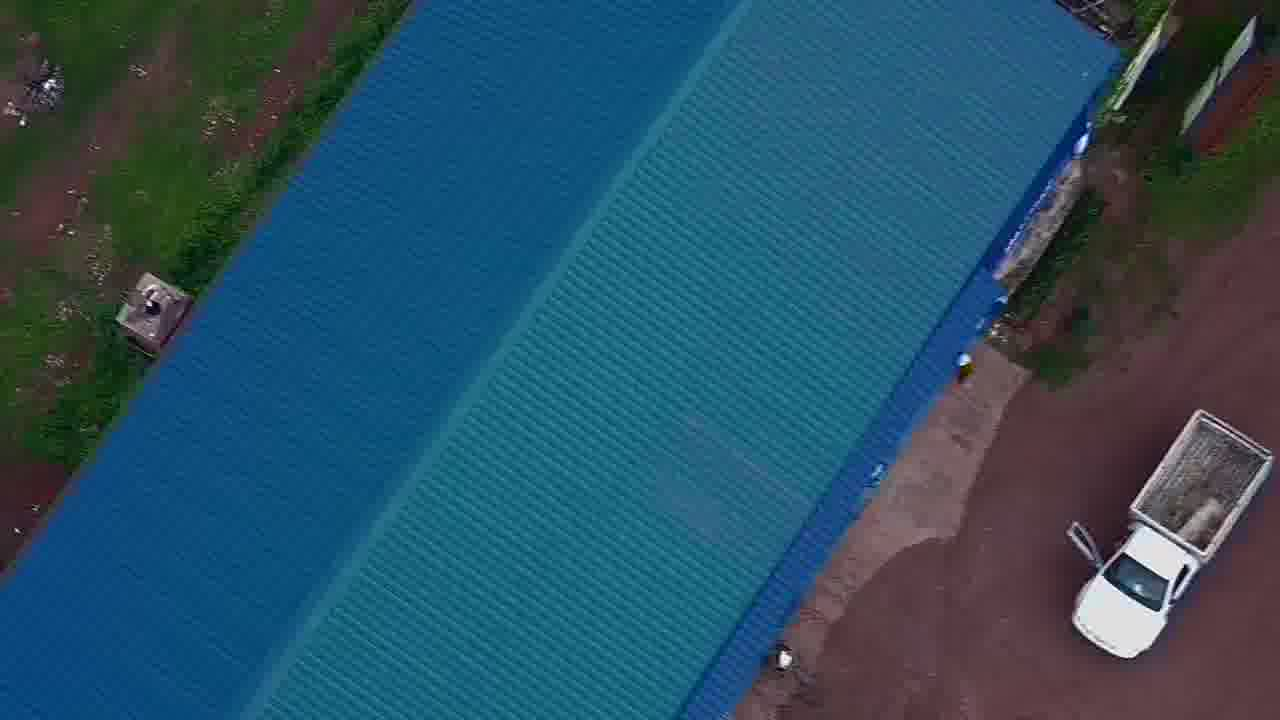light_motor_vehicle: (1034, 408, 1277, 661)
